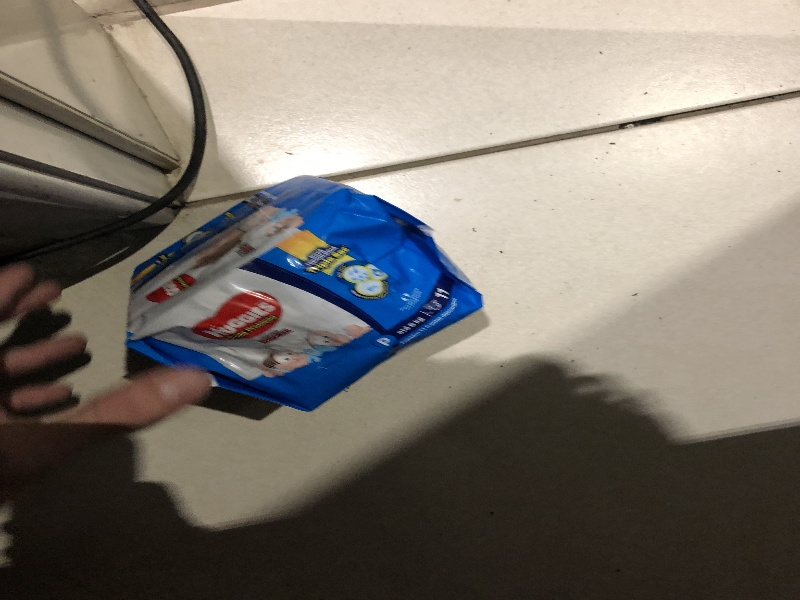fralda: (110, 166, 492, 421)
